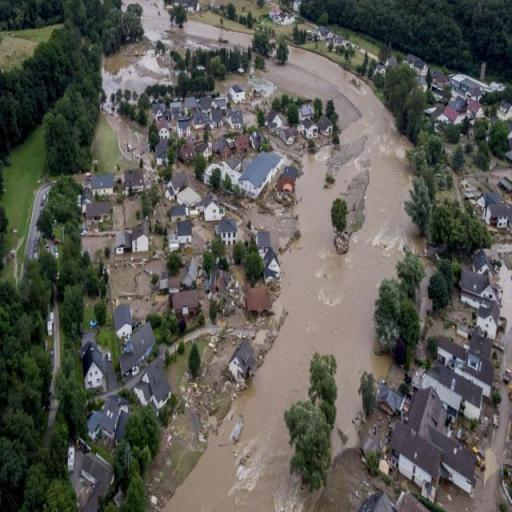flood: (162, 45, 426, 512), (102, 40, 172, 96), (184, 20, 252, 46), (416, 254, 436, 318), (485, 449, 499, 484), (331, 428, 345, 458), (235, 34, 249, 46)
house: (390, 382, 481, 488), (424, 362, 483, 420), (86, 391, 134, 450), (72, 448, 114, 511), (237, 151, 285, 198), (118, 322, 156, 380), (134, 363, 173, 408), (226, 337, 256, 384), (459, 264, 492, 306), (83, 339, 108, 393), (476, 291, 503, 340), (170, 288, 201, 328), (437, 335, 468, 372), (242, 279, 271, 314), (170, 217, 193, 252), (114, 302, 134, 342), (378, 384, 403, 416), (176, 183, 204, 211), (215, 218, 239, 248), (205, 191, 226, 222), (486, 203, 510, 228), (124, 167, 146, 194), (130, 226, 150, 255), (86, 200, 111, 222), (180, 258, 198, 288), (264, 108, 286, 132), (92, 174, 116, 196), (266, 248, 281, 277), (300, 117, 318, 139), (178, 140, 196, 162), (462, 77, 482, 96), (278, 176, 298, 194), (467, 100, 485, 120), (166, 172, 178, 202), (114, 231, 130, 253), (228, 110, 246, 129), (479, 190, 498, 208), (200, 139, 214, 162), (216, 137, 232, 157), (318, 116, 333, 136), (230, 85, 245, 104), (194, 113, 212, 128), (497, 102, 512, 119), (178, 117, 192, 135), (184, 96, 198, 114), (318, 26, 334, 41), (153, 103, 167, 119), (415, 60, 429, 76), (214, 96, 228, 110), (200, 97, 212, 113), (160, 121, 170, 138), (278, 12, 290, 26)
